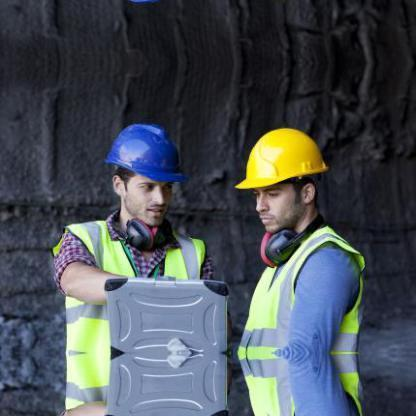helmet: (101, 116, 190, 186), (240, 127, 327, 194)
